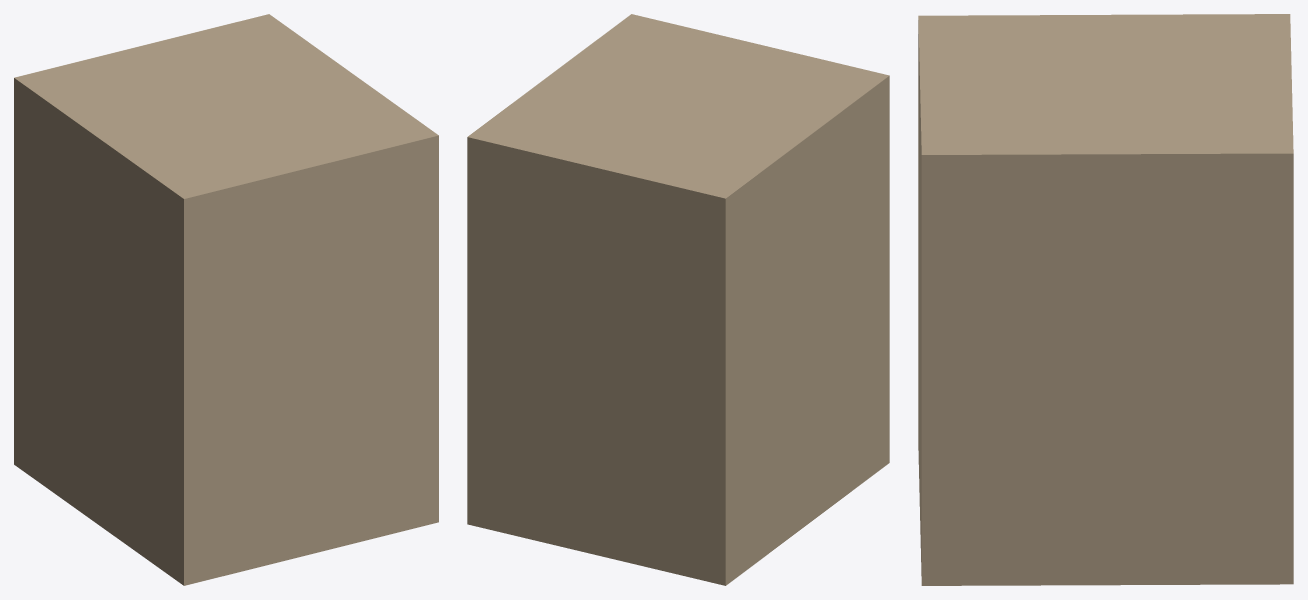
File: bld_106796578.dae
The picture shows the model from 3 angles, left to right: view 1: azimuth 30°, elevation 25°; view 2: azimuth 150°, elevation 25°; view 3: azimuth 270°, elevation 25°; orthographic projection. The views are drawn at different scales.
Parts seen in each view (by area): view 1: bld_106796578; view 2: bld_106796578; view 3: bld_106796578.
Part boxes in pixels (<box>): bld_106796578: <box>14,14,438,585</box>; bld_106796578: <box>467,14,889,585</box>; bld_106796578: <box>918,14,1293,585</box>.
Size of the model in its own units: 5.62 by 6.31 by 8.
